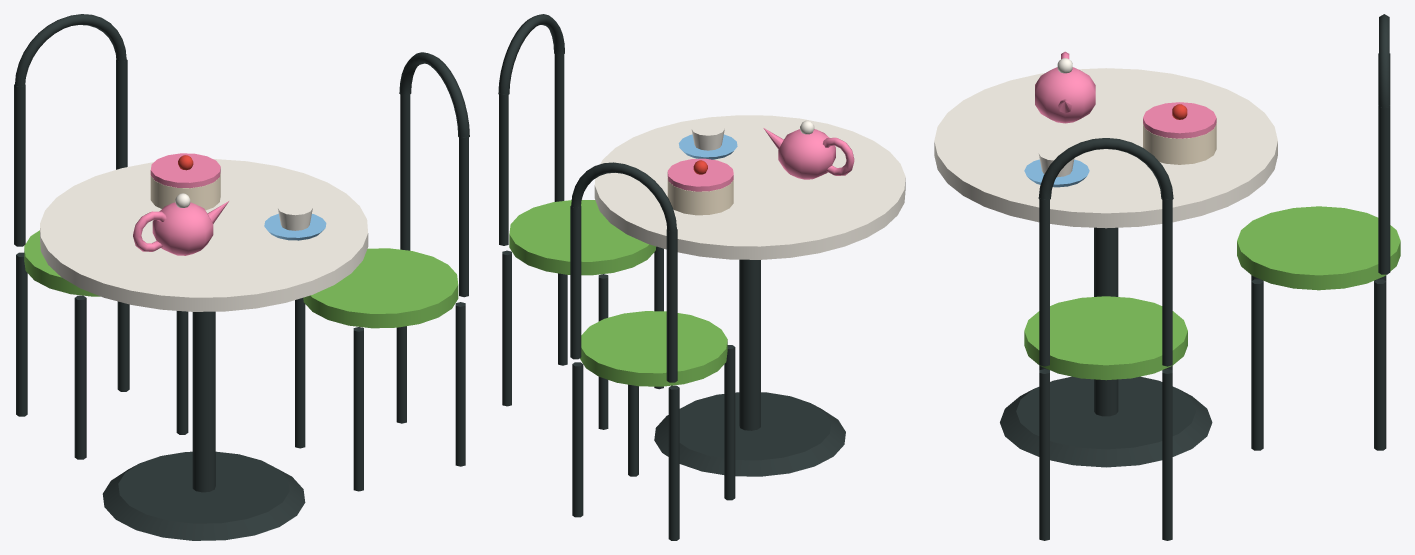
File: picnic-cafe.glb
3 renders of one model, left to right at view 1: azimuth 30°, elevation 25°; view 2: azimuth 150°, elevation 25°; view 3: azimuth 270°, elevation 25°, orthographic. The views are drawn at different scales.
Size of the model in its own units: 1.14 by 1.09 by 1.14.
